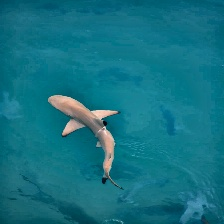shark: (47, 95, 121, 183)
